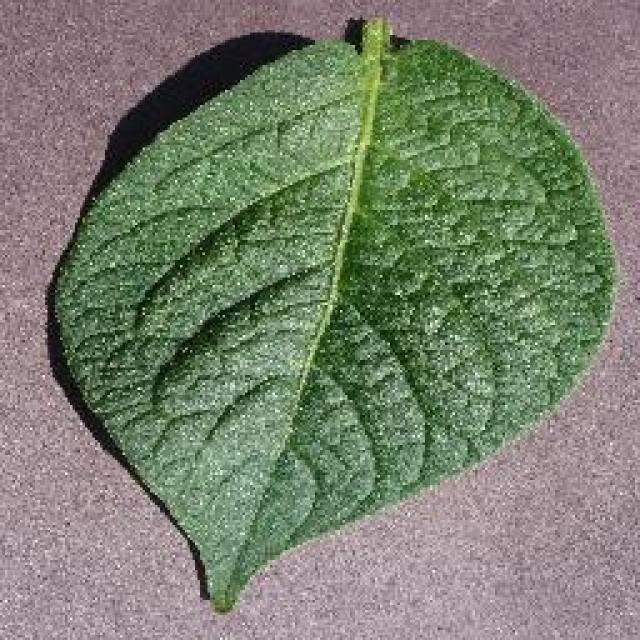Potato___healthy: (50, 14, 623, 623)
